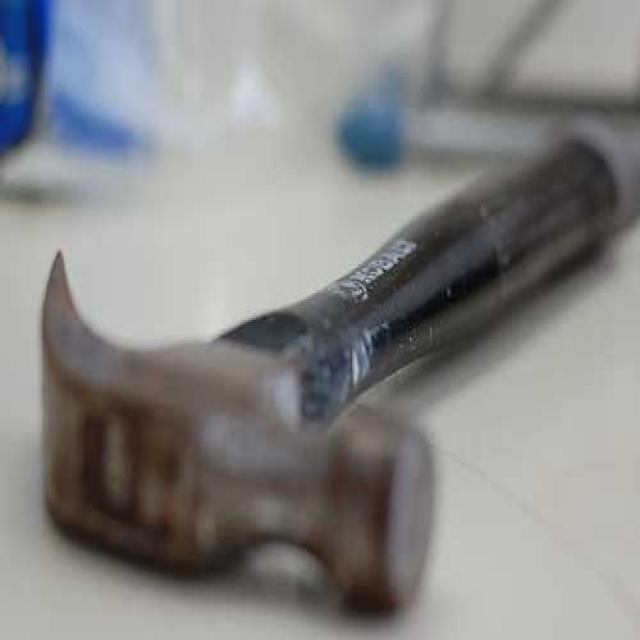hammer: (40, 139, 632, 606)
